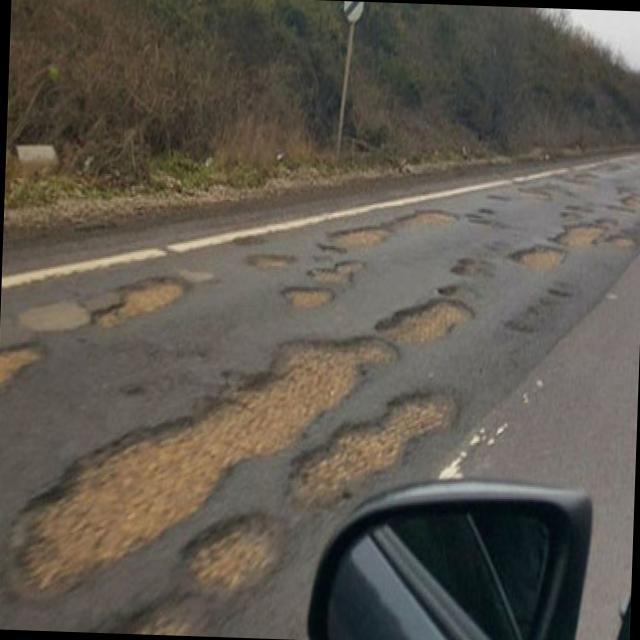Pothole: (1, 274, 394, 610), (290, 372, 458, 488), (175, 493, 287, 595), (92, 260, 186, 329), (378, 294, 478, 348), (0, 324, 46, 403), (500, 240, 568, 274), (326, 217, 394, 249), (309, 254, 368, 286), (396, 208, 464, 235), (558, 216, 605, 250), (283, 281, 335, 311), (250, 248, 294, 271), (234, 228, 268, 248), (452, 254, 479, 278)
